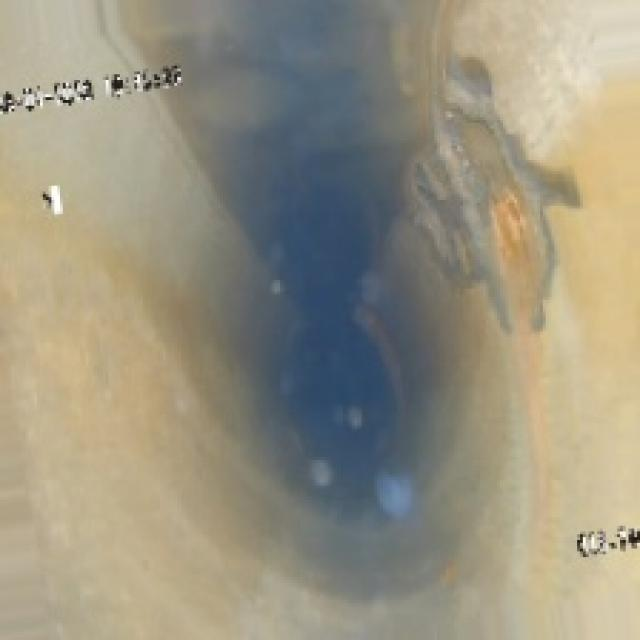pipe_surface_damage: (380, 43, 577, 348)
